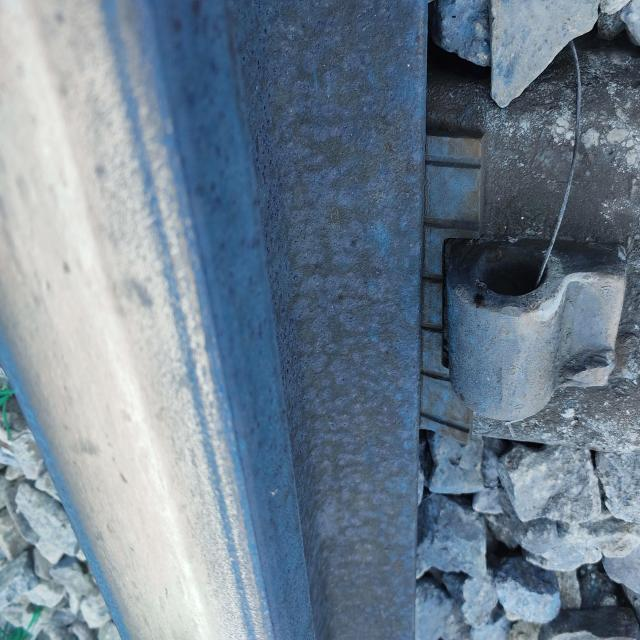Missing Fastener: (443, 238, 640, 451)
